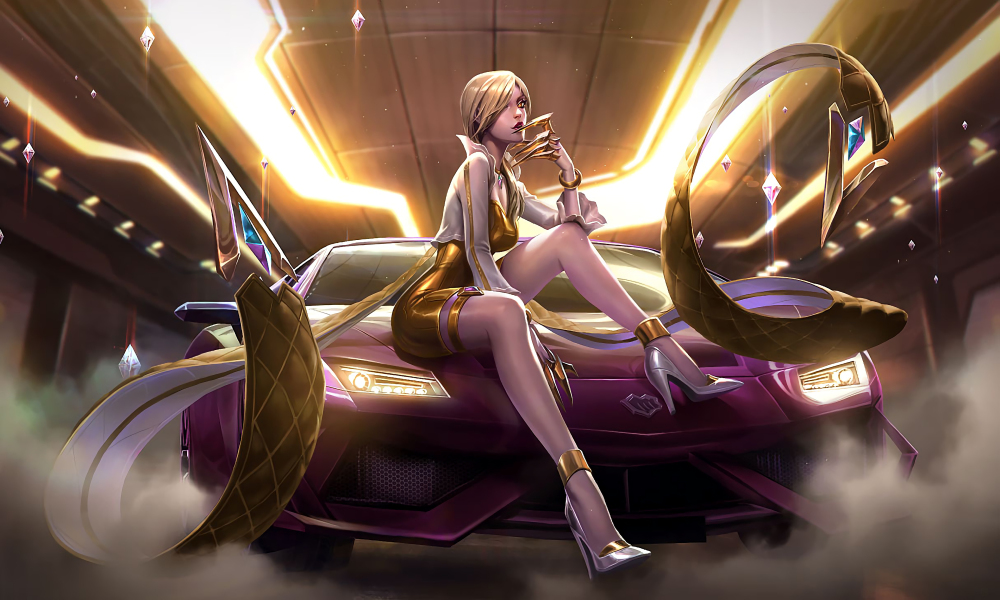face: (447, 58, 547, 160)
